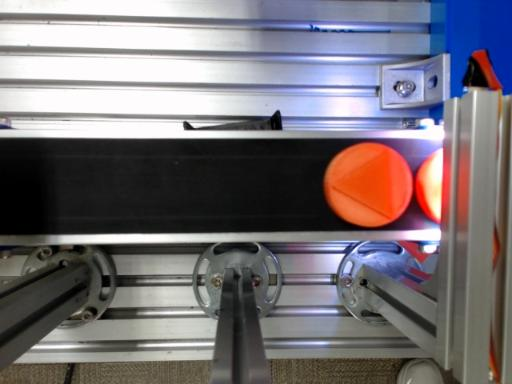Orange_Waper: (324, 142, 412, 227)
